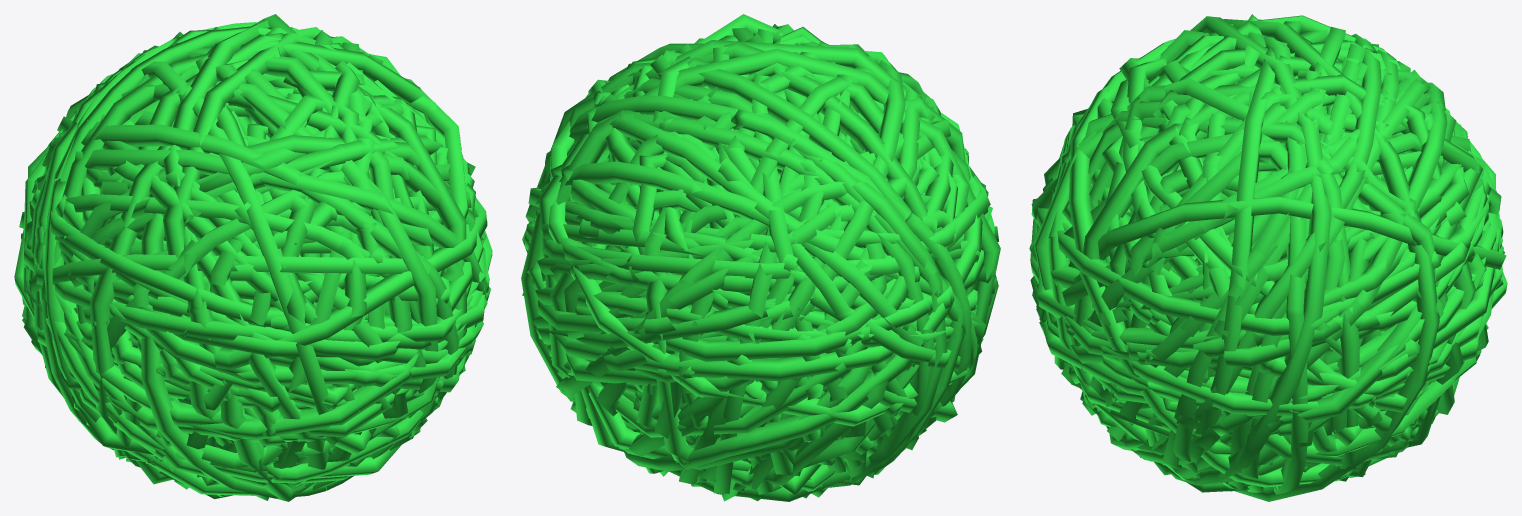
The model's file is BallOYarn_Gre.fbx.
3 renders of one model, left to right at view 1: azimuth 30°, elevation 25°; view 2: azimuth 150°, elevation 25°; view 3: azimuth 270°, elevation 25°, orthographic.
Visible parts, largest first — view 1: BallOYarn_Gre; view 2: BallOYarn_Gre; view 3: BallOYarn_Gre.
Part boxes in pixels (left/top/right/bottom): BallOYarn_Gre: left=14, top=14, right=492, bottom=501; BallOYarn_Gre: left=521, top=14, right=1000, bottom=501; BallOYarn_Gre: left=1029, top=14, right=1507, bottom=501.
Bounding box in the file's own units: 218 × 221 × 217.
